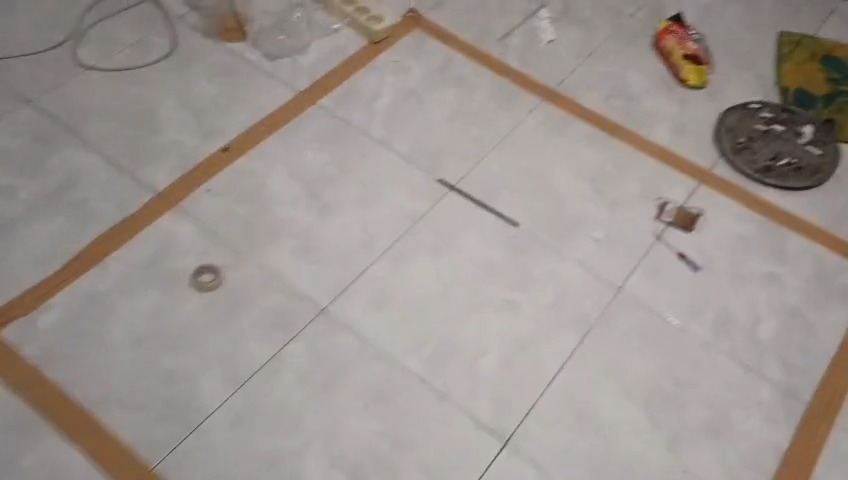floor marking: (0, 9, 847, 329), (0, 336, 160, 479), (775, 334, 847, 478)
